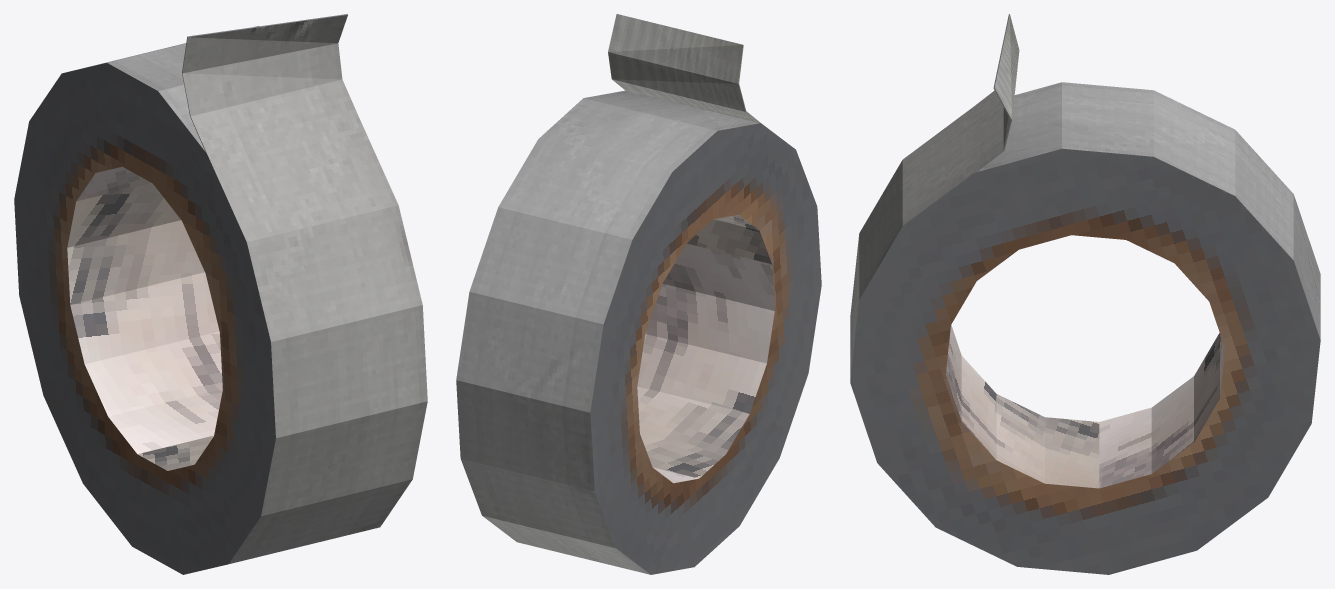
File: DTtape.glb
The picture shows the model from 3 angles, left to right: view 1: azimuth 30°, elevation 25°; view 2: azimuth 150°, elevation 25°; view 3: azimuth 270°, elevation 25°; orthographic projection. The views are drawn at different scales.
Visible parts, largest first — view 1: Cylinder; view 2: Cylinder; view 3: Cylinder.
Boxes of the visible parts, x1=… form: Cylinder: x1=14, y1=14, x2=427, y2=574; Cylinder: x1=456, y1=14, x2=821, y2=574; Cylinder: x1=850, y1=14, x2=1320, y2=574.
Size of the model in its own units: 2 by 6.93 by 5.97.
1 material, 1 textured.
